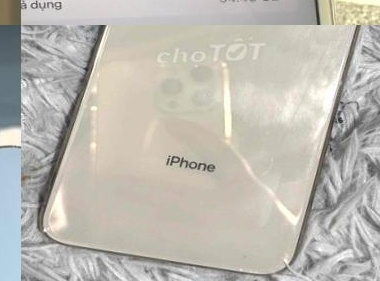scratch: (227, 242, 262, 269)
